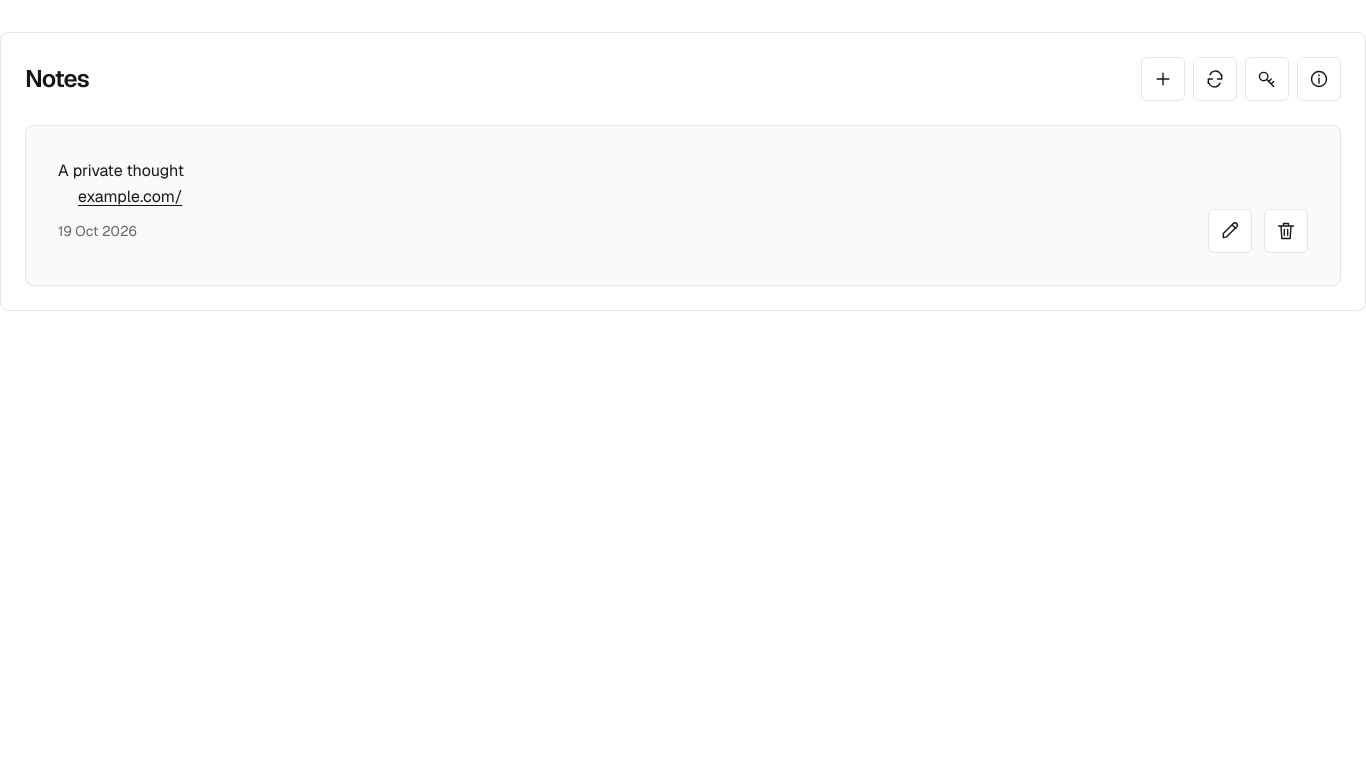
Test case: notes interface › does not apply guest expiry or code requirements to signed-in accounts
Click the button named "Add note" at [1163, 79], box [1141,57,1185,101]
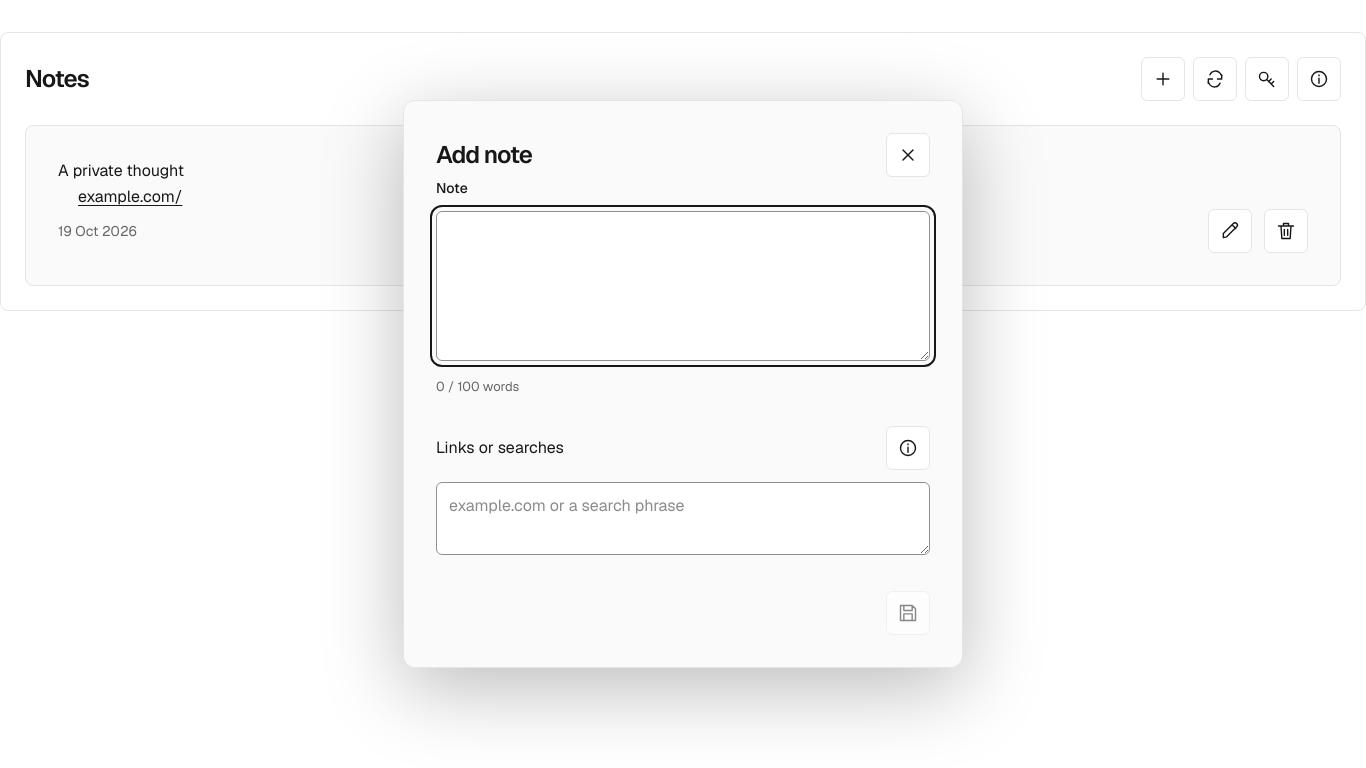
Expected: the text box with id "note-text" is shown, [436,211,930,361]
